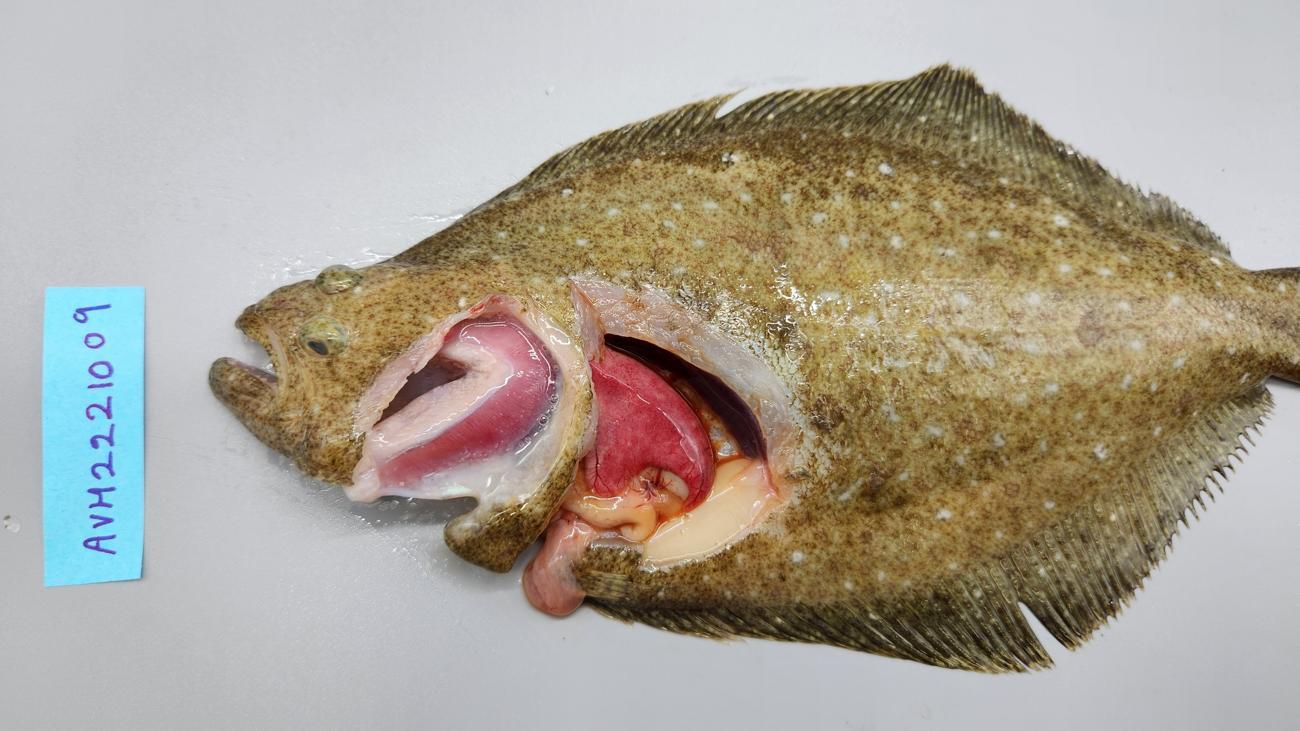VIGIP: (374, 313, 554, 488)
VILIC: (590, 348, 718, 509)
